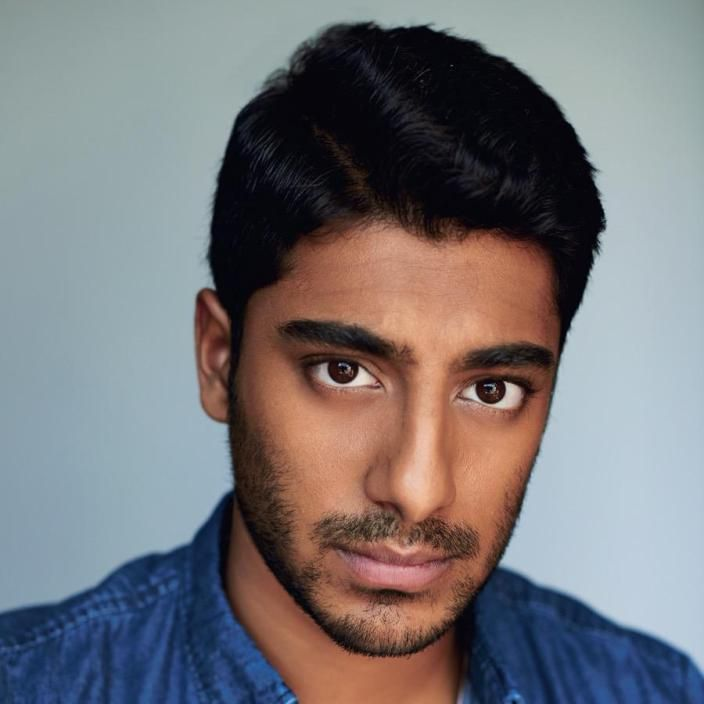bare: (234, 412, 536, 655)
